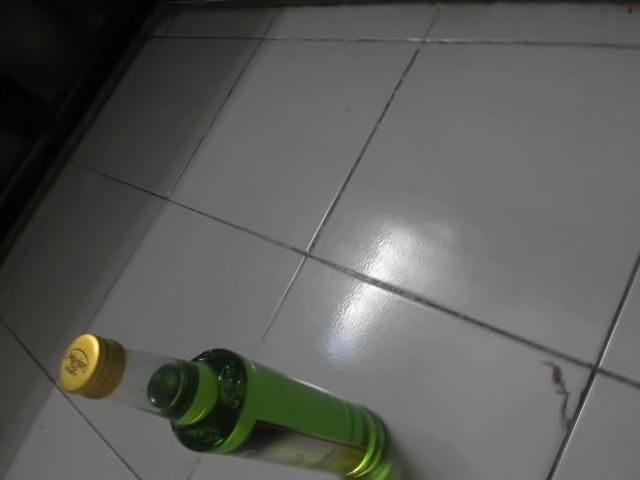botol_kaca: (52, 326, 398, 480)
